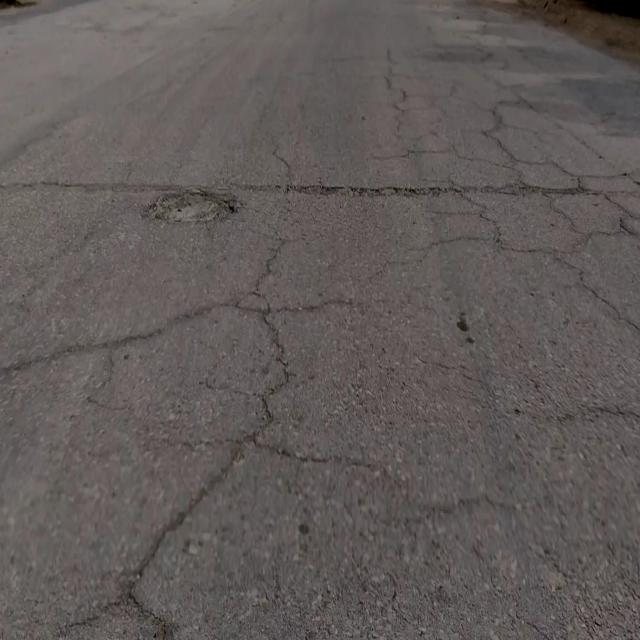Potholes: (139, 186, 240, 229)
